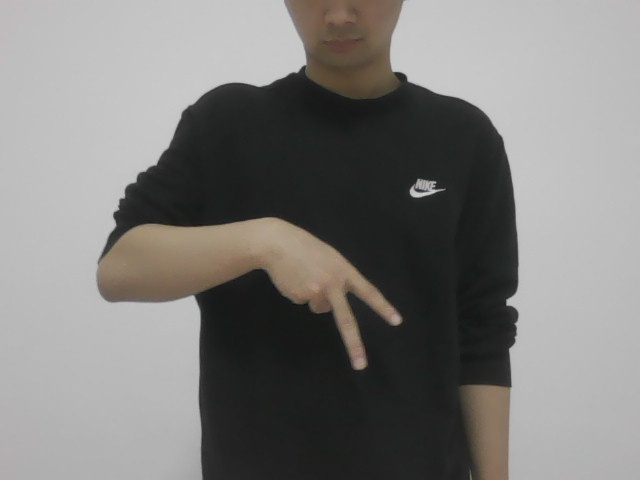walk: (250, 213, 409, 373)
